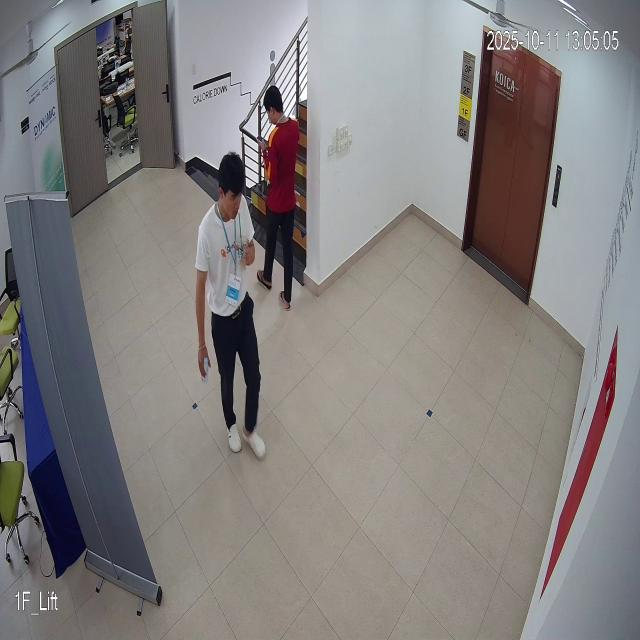face: (212, 139, 246, 228)
